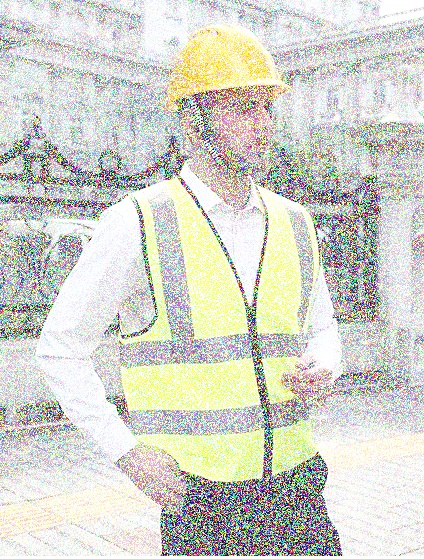helmet: (160, 20, 291, 180)
vest: (36, 166, 348, 462)
